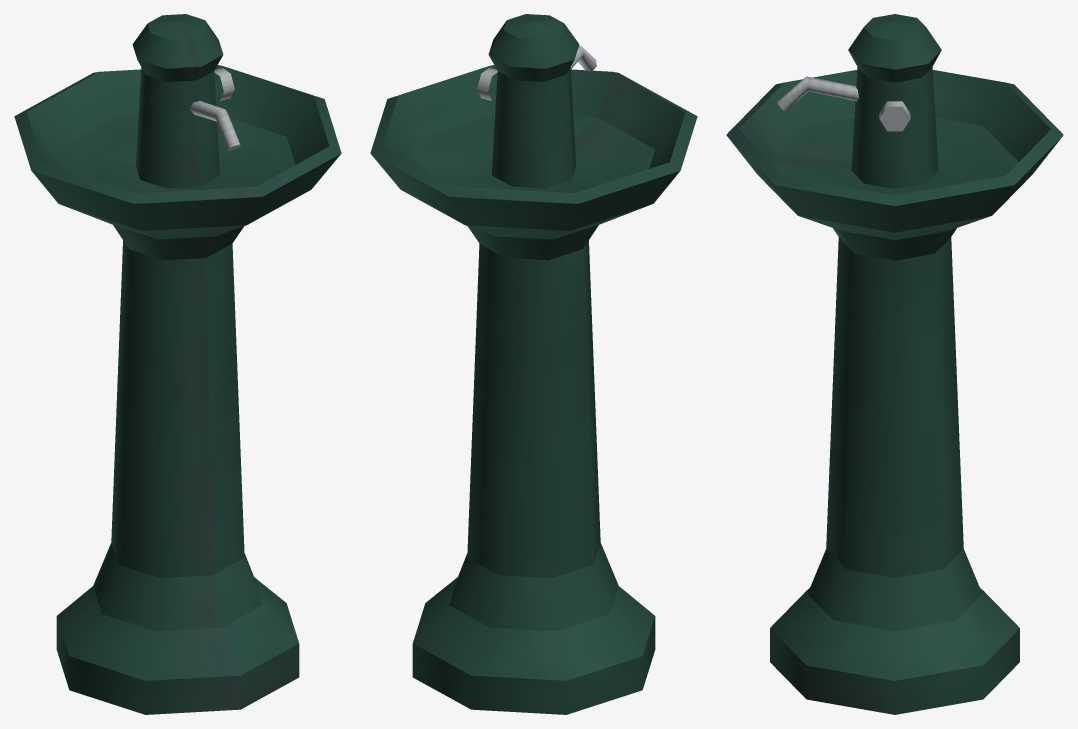
Rendered from fontaine_eau_lod1.glb.
3 renders of one model, left to right at view 1: azimuth 30°, elevation 25°; view 2: azimuth 150°, elevation 25°; view 3: azimuth 270°, elevation 25°, orthographic.
Parts seen in each view (by area): view 1: fontaine_eau; view 2: fontaine_eau; view 3: fontaine_eau.
Boxes of the visible parts, x1,y1,x2,y2 form: fontaine_eau: (14, 14, 341, 714); fontaine_eau: (370, 14, 697, 714); fontaine_eau: (726, 14, 1063, 714).
Bounding box in the file's own units: 0.5399 × 1.13 × 0.5399.
1 material, 1 textured.
